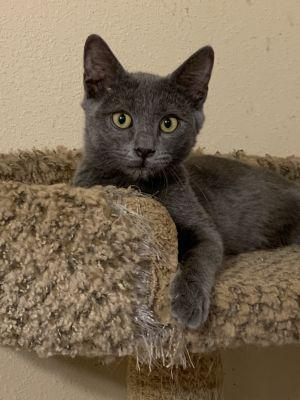rblue: (74, 27, 217, 194)
